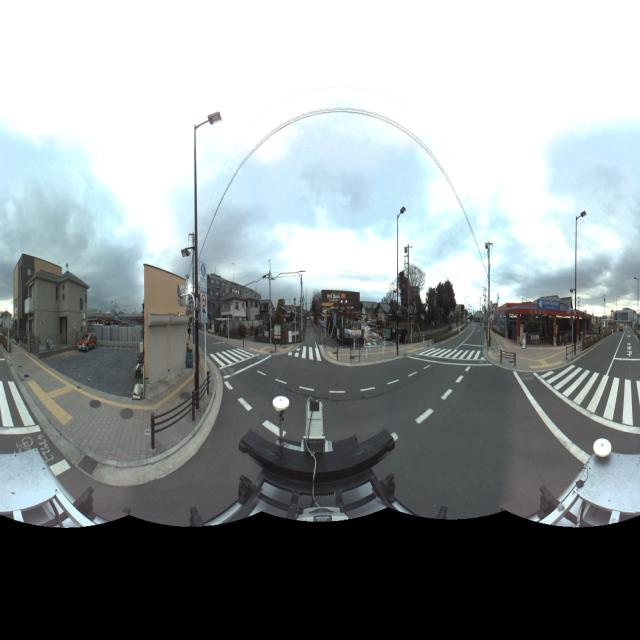b_1: (28, 271, 94, 363), (140, 261, 189, 384), (222, 293, 261, 336)
